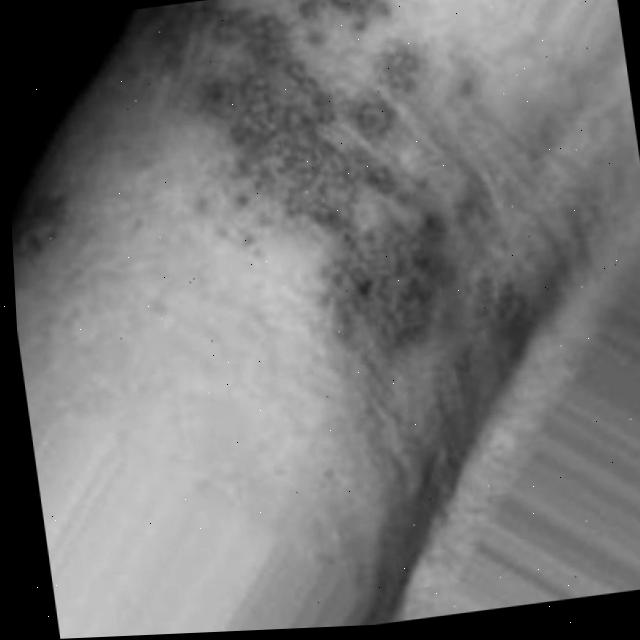Shingles: (123, 0, 553, 420), (10, 188, 87, 262)
